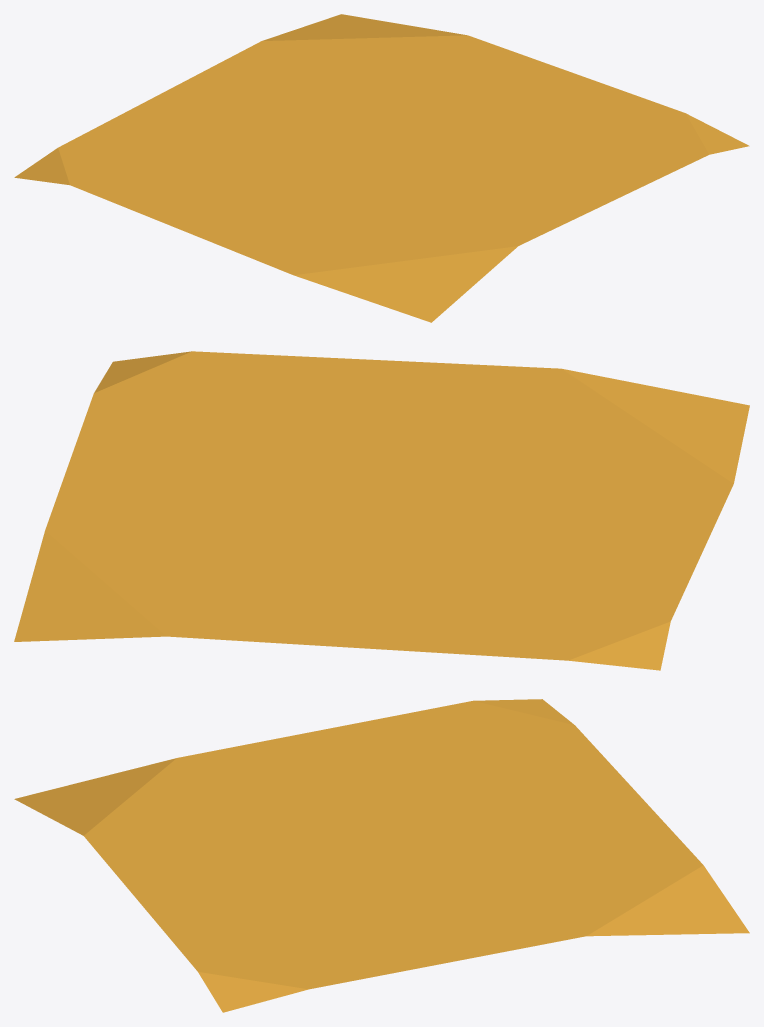
Rendered from cheeseOne.fbx.
The picture shows the model from 3 angles, top to bottom: view 1: azimuth 30°, elevation 25°; view 2: azimuth 150°, elevation 25°; view 3: azimuth 270°, elevation 25°; orthographic projection. The views are drawn at different scales.
Parts seen in each view (by area): view 1: Plane.016; view 2: Plane.016; view 3: Plane.016.
Part boxes in pixels (x1,y1,x2,y2): Plane.016: (14, 14, 749, 322); Plane.016: (14, 351, 749, 670); Plane.016: (14, 699, 749, 1012).
Size of the model in its own units: 17.75 by 0.7483 by 17.82.
